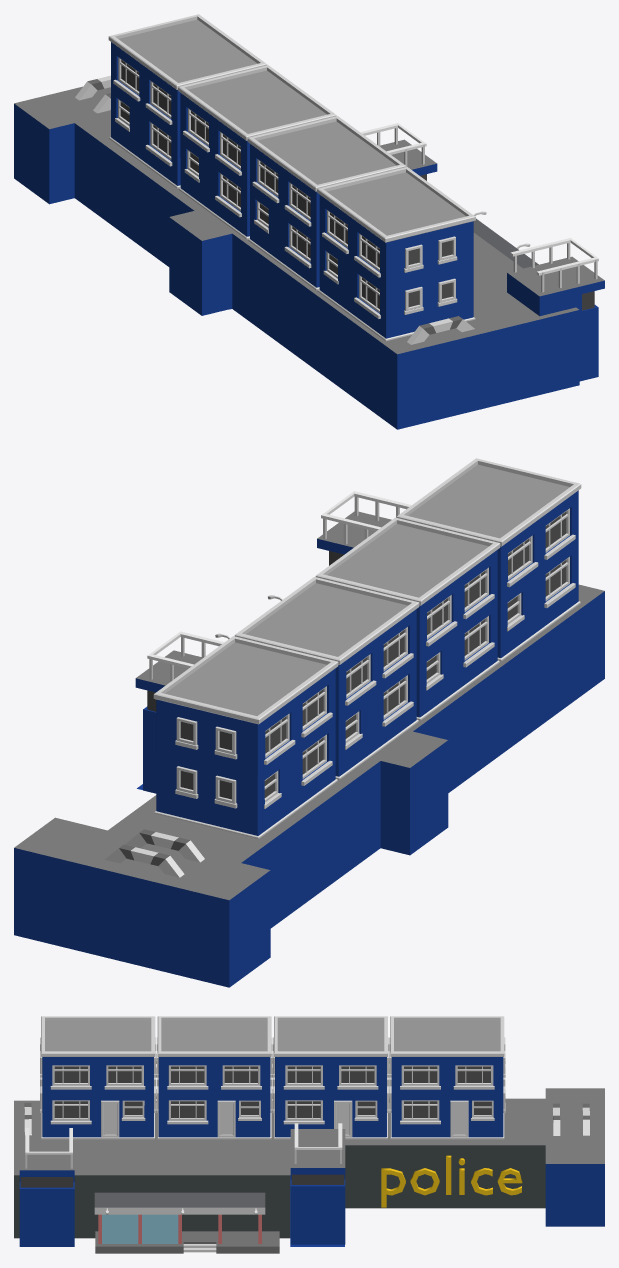
File: Police_Station_tran.glb
3 renders of one model, top to bottom at view 1: azimuth 30°, elevation 25°; view 2: azimuth 150°, elevation 25°; view 3: azimuth 270°, elevation 25°, orthographic. The views are drawn at different scales.
Parts seen in each view (by area): view 1: London Police Service Headquarters, 601 Dundas St, London, O, Cube.634, Cube.7167, Cube.7164; view 2: London Police Service Headquarters, 601 Dundas St, London, O, Cube.7170, Cube.7169, Cube.7164, Cube.7163; view 3: London Police Service Headquarters, 601 Dundas St, London, O, Cube.634, Cube.635, Text.024, Cube.638, Cube.637, Cube.7164, Cube.7163.
Part boxes in pixels (bbox=[...]): London Police Service Headquarters, 601 Dundas St, London, O: bbox=[14, 14, 604, 429]; Cube.634: bbox=[473, 218, 538, 268]; Cube.7167: bbox=[407, 316, 474, 344]; Cube.7164: bbox=[510, 238, 598, 275]; London Police Service Headquarters, 601 Dundas St, London, O: bbox=[14, 458, 604, 987]; Cube.7170: bbox=[125, 829, 204, 862]; Cube.7169: bbox=[105, 844, 184, 877]; Cube.7164: bbox=[321, 491, 411, 531]; Cube.7163: bbox=[147, 631, 224, 668]; London Police Service Headquarters, 601 Dundas St, London, O: bbox=[14, 1016, 604, 1246]; Cube.634: bbox=[94, 1192, 265, 1214]; Cube.635: bbox=[95, 1231, 279, 1253]; Text.024: bbox=[381, 1155, 522, 1207]; Cube.638: bbox=[102, 1214, 178, 1243]; Cube.637: bbox=[98, 1214, 261, 1243]; Cube.7164: bbox=[25, 1128, 72, 1154]; Cube.7163: bbox=[294, 1123, 342, 1149].
Bounding box in the file's own units: 0.3055 × 0.1977 × 0.7081.
